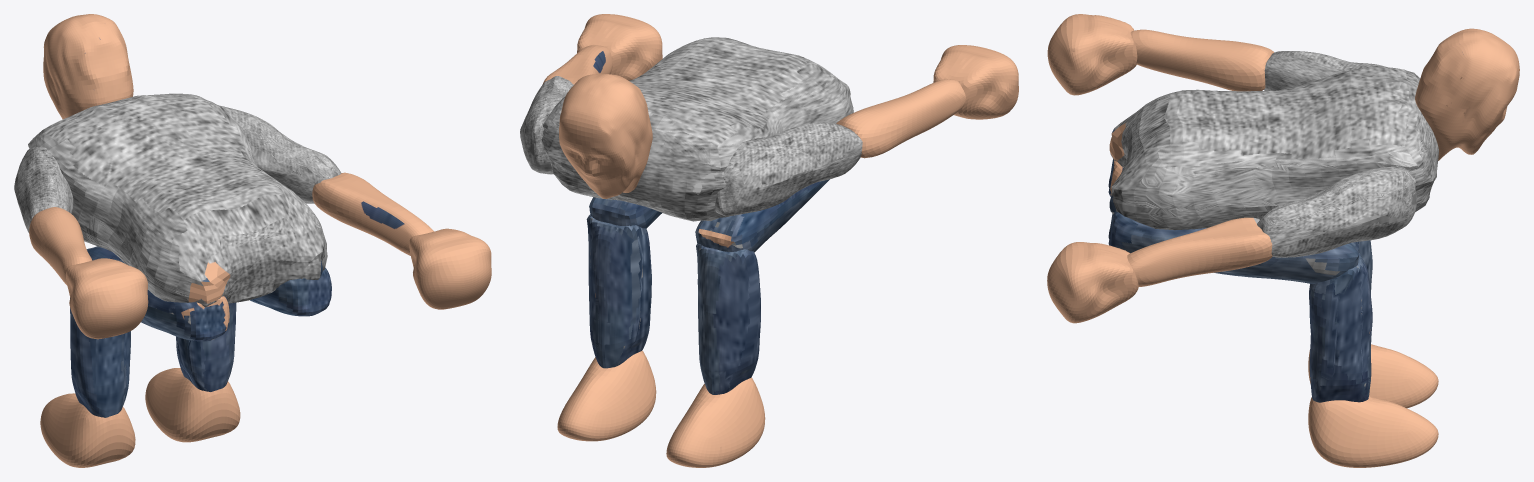
File: mainCharacter.obj
3 views of the same model, side by side, from view 1: azimuth 30°, elevation 25°; view 2: azimuth 150°, elevation 25°; view 3: azimuth 270°, elevation 25° (orthographic). The views are drawn at different scales.
Parts seen in each view (by area): view 1: Cube.007, Cube.016, Cube.009_Cube.023, Cube.011_Cube.024, Cube.003_Cube.019, Cube.005_Cube.020, Cube.015, Cube.002_Cube.018, Cube.010, Cube.001, Cube.006_Cube.021, Cube.004 (+2 smaller); view 2: Cube.007, Cube.016, Cube.006_Cube.021, Cube.002_Cube.018, Cube.004, Cube.003_Cube.019, Cube.005_Cube.020, Cube.008_Cube.022, Cube.011_Cube.024, Cube.009_Cube.023, Cube.001, Cube.010 (+2 smaller); view 3: Cube.007, Cube.016, Cube.010, Cube.004, Cube.003_Cube.019, Cube.015, Cube.008_Cube.022, Cube.011_Cube.024, Cube.009_Cube.023, Cube.001_Cube.017, Cube.005_Cube.020, Cube.006_Cube.021.
Boxes of the visible parts, x1,y1,x2,y2 form: Cube.007: [28, 93, 327, 307]; Cube.016: [43, 14, 133, 119]; Cube.009_Cube.023: [409, 228, 491, 309]; Cube.011_Cube.024: [66, 258, 148, 339]; Cube.003_Cube.019: [145, 368, 240, 442]; Cube.005_Cube.020: [40, 393, 135, 467]; Cube.015: [312, 172, 433, 255]; Cube.002_Cube.018: [70, 298, 130, 417]; Cube.010: [218, 105, 341, 203]; Cube.001: [86, 246, 229, 341]; Cube.006_Cube.021: [14, 146, 73, 232]; Cube.004: [176, 302, 236, 391]; Cube.007: [541, 37, 853, 221]; Cube.016: [559, 74, 652, 198]; Cube.006_Cube.021: [715, 122, 862, 216]; Cube.002_Cube.018: [696, 244, 760, 394]; Cube.004: [586, 214, 651, 368]; Cube.003_Cube.019: [557, 350, 656, 441]; Cube.005_Cube.020: [666, 377, 765, 467]; Cube.008_Cube.022: [836, 79, 965, 158]; Cube.011_Cube.024: [933, 45, 1018, 119]; Cube.009_Cube.023: [577, 14, 662, 80]; Cube.001: [695, 179, 829, 252]; Cube.010: [520, 76, 573, 174]; Cube.007: [1109, 66, 1438, 230]; Cube.016: [1415, 28, 1519, 160]; Cube.010: [1257, 166, 1416, 257]; Cube.004: [1309, 253, 1372, 402]; Cube.003_Cube.019: [1308, 396, 1438, 467]; Cube.015: [1127, 217, 1272, 286]; Cube.008_Cube.022: [1130, 29, 1273, 91]; Cube.011_Cube.024: [1047, 14, 1137, 95]; Cube.009_Cube.023: [1047, 242, 1138, 323]; Cube.001_Cube.017: [1108, 211, 1358, 284]; Cube.005_Cube.020: [1308, 344, 1438, 408]; Cube.006_Cube.021: [1264, 51, 1385, 90].
Bounding box in the file's own units: 1.16 × 1.03 × 1.11.
Materials: 3 (3 with a texture image).
